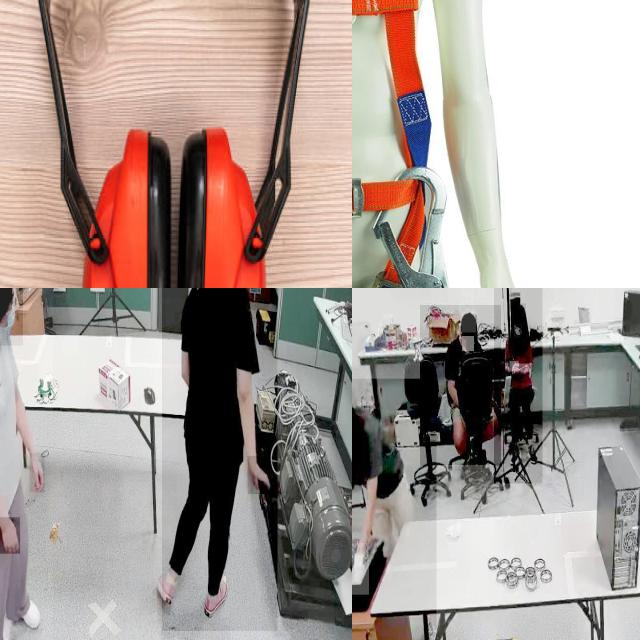Ear-protection: (10, 0, 340, 288)
Harness: (352, 0, 446, 288)
face_mask: (0, 288, 23, 345), (513, 318, 526, 350)
face_nomask: (462, 336, 474, 352)
hand_glove: (352, 543, 369, 595)
hand_noglove: (248, 456, 272, 495), (0, 517, 20, 554), (29, 453, 45, 493), (509, 361, 519, 372), (518, 363, 530, 372)
head_nohelmet: (462, 312, 476, 333), (511, 303, 527, 317)
person: (162, 288, 278, 631), (352, 379, 437, 640), (0, 288, 53, 640), (420, 305, 501, 466), (494, 288, 543, 484)
shoes: (5, 583, 42, 634), (203, 570, 232, 624), (155, 566, 179, 604), (524, 443, 540, 468)
